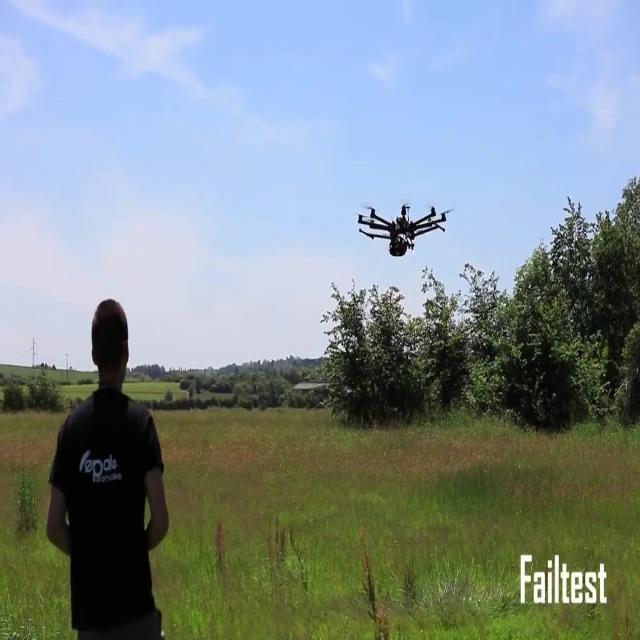UAV: (356, 203, 452, 257)
